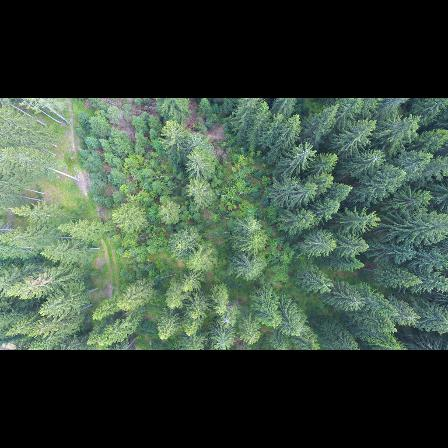Sick: (291, 141, 319, 161), (366, 148, 387, 166)
